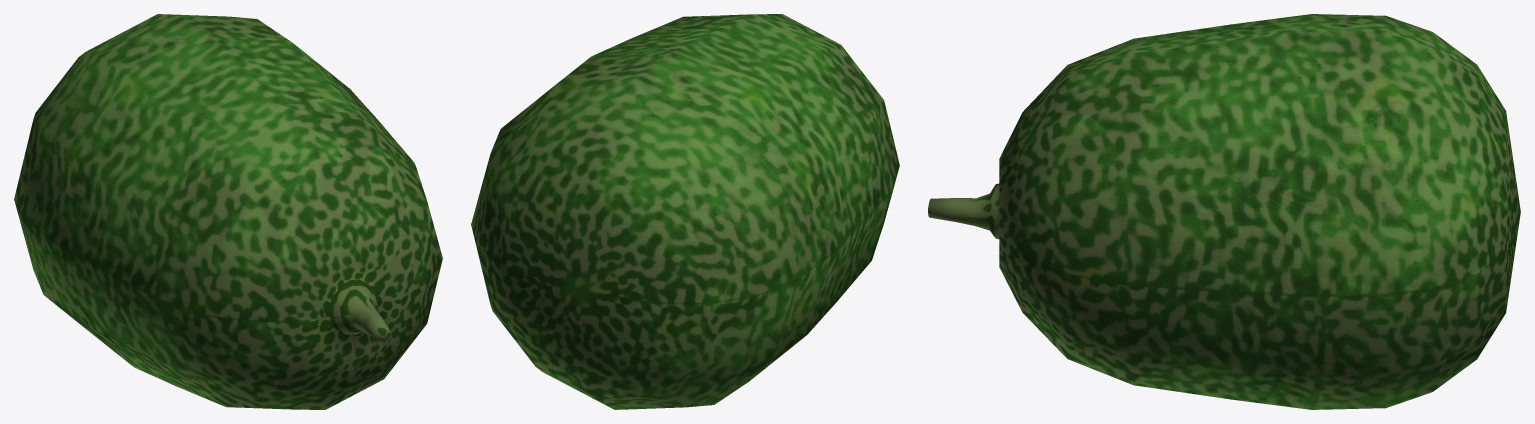
File: JackfruitA.glb
3 views of the same model, side by side, from view 1: azimuth 30°, elevation 25°; view 2: azimuth 150°, elevation 25°; view 3: azimuth 270°, elevation 25° (orthographic). The views are drawn at different scales.
Visible parts, largest first — view 1: JackfruitA_Jackfruit_0; view 2: JackfruitA_Jackfruit_0; view 3: JackfruitA_Jackfruit_0.
Boxes of the visible parts, x1,y1,x2,y2 form: JackfruitA_Jackfruit_0: [14, 14, 442, 409]; JackfruitA_Jackfruit_0: [471, 14, 899, 409]; JackfruitA_Jackfruit_0: [928, 14, 1520, 409].
Bounding box in the file's own units: 1.37 × 1.37 × 2.04.
Materials: 1 (1 with a texture image).
